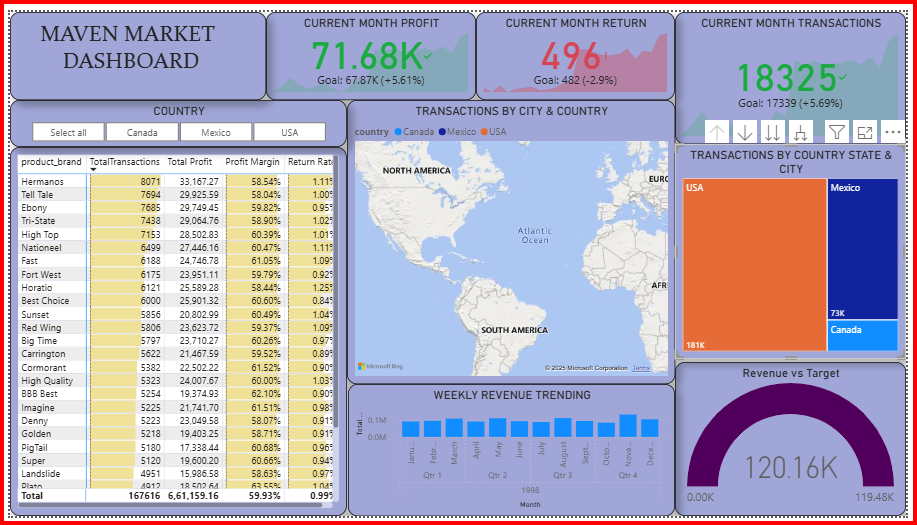

What the dashboard file says about the page in this screenshot:
{"tool":"powerbi","page":{"name":"Page 1","canvas":[1280,720],"ordinal":0},"visuals":[{"type":"actionButton","box":[0,0,100,40],"z":0},{"type":"pivotTable","fields":{"Rows":["Products.product_brand"],"Values":["Transaction_data.TotalTransactions","Transaction_data.Total Profit","Transaction_data.Profit Margin","Returns_Data.Return Rate"]},"box":[0,192.9,481.4,527.1],"z":1000},{"type":"kpi","title":"CURRENT MONTH TRANSACTIONS","fields":{"Indicator":["Transaction_data.TotalTransactions"],"TrendLine":["Calendar.Start of Month"],"Goal":["Transaction_data.Last Month Transactions"]},"box":[950,0,330,188.6],"z":2000},{"type":"kpi","title":"CURRENT MONTH PROFIT","fields":{"TrendLine":["Calendar.Start of Month"],"Indicator":["Transaction_data.Total Profit"],"Goal":["Transaction_data.Last Month Profit"]},"box":[365.7,0,300,125.7],"z":3000},{"type":"kpi","title":"CURRENT MONTH RETURN","fields":{"TrendLine":["Calendar.Start of Month"],"Goal":["Transaction_data.Last Month Returns"],"Indicator":["Returns_Data.TotalReturn"]},"box":[665.7,0,284.3,125.7],"z":4000},{"type":"gauge","title":"Revenue vs Target","fields":{"Y":["Transaction_data.Total Revenue"],"MaxValue":["Transaction_data.Revenue Target"]},"box":[950,500,330,220],"z":5000},{"type":"map","title":"TRANSACTIONS BY CITY & COUNTRY","fields":{"Category":["Stores.city"],"Size":["Transaction_data.TotalTransactions"],"Series":["Stores.country"]},"box":[481.4,125.7,468.6,405.7],"z":6000},{"type":"slicer","title":"COUNTRY","fields":{"Values":["Stores.country"]},"box":[0,125.7,481.4,67.1],"z":7000},{"type":"treemap","title":"TRANSACTIONS BY COUNTRY STATE & CITY","fields":{"Values":["Transaction_data.TotalTransactions"],"Group":["Stores.country","Stores.state","Stores.city"]},"box":[950,188.6,330,307.1],"z":8000},{"type":"clusteredColumnChart","title":"WEEKLY REVENUE TRENDING","fields":{"Category":["Calendar.Start of Week.Variation.Date Hierarchy.Year","Calendar.Start of Week.Variation.Date Hierarchy.Quarter","Calendar.Start of Week.Variation.Date Hierarchy.Month","Calendar.Start of Week.Variation.Date Hierarchy.Day"],"Y":["Transaction_data.Total Revenue"]},"box":[482.9,531.4,467.1,188.6],"z":9000},{"type":"textbox","box":[0,0,365.7,125.7],"z":10000}]}

Visuals, with their boxes in screenshot pixels (x1, y1, x2, y2), scaled from the page's 1280x720 canvas onto the 917x525 screenshot:
actionButton: <box>0,0,72,29</box>
pivotTable - Products.product_brand x Transaction_data.TotalTransactions: <box>0,141,345,524</box>
"CURRENT MONTH TRANSACTIONS" kpi: <box>681,0,916,138</box>
"CURRENT MONTH PROFIT" kpi: <box>262,0,477,92</box>
"CURRENT MONTH RETURN" kpi: <box>477,0,681,92</box>
"Revenue vs Target" gauge: <box>681,365,916,524</box>
"TRANSACTIONS BY CITY & COUNTRY" map: <box>345,92,681,387</box>
"COUNTRY" slicer: <box>0,92,345,141</box>
"TRANSACTIONS BY COUNTRY STATE & CITY" treemap: <box>681,138,916,361</box>
"WEEKLY REVENUE TRENDING" clusteredColumnChart: <box>346,387,681,524</box>
textbox: <box>0,0,262,92</box>
